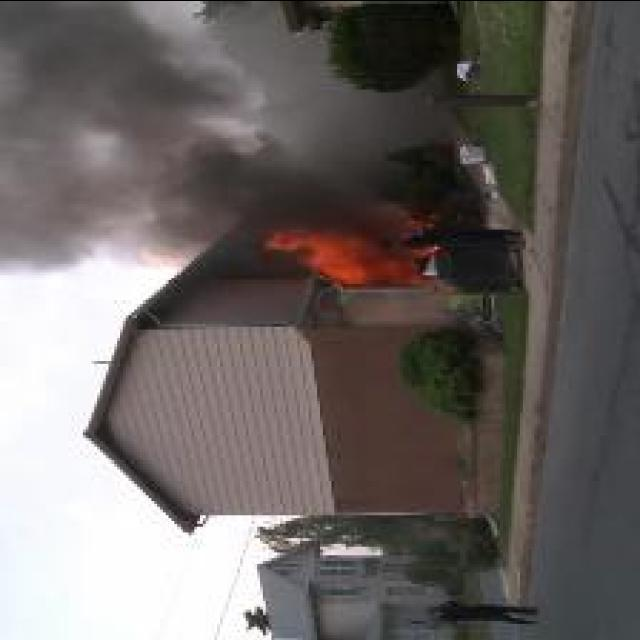Fire: (264, 219, 438, 287)
